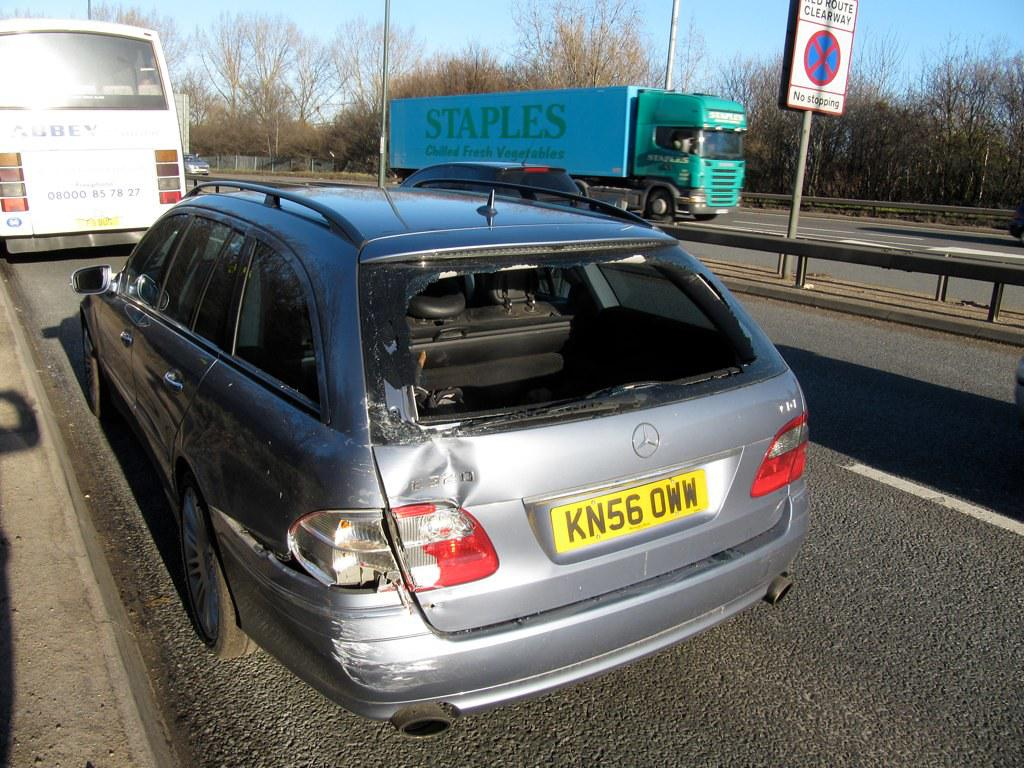Rear-windscreen-Damage: (336, 218, 782, 430)
boot-dent: (401, 413, 777, 593)
rear-bumper-dent: (233, 560, 452, 715)
